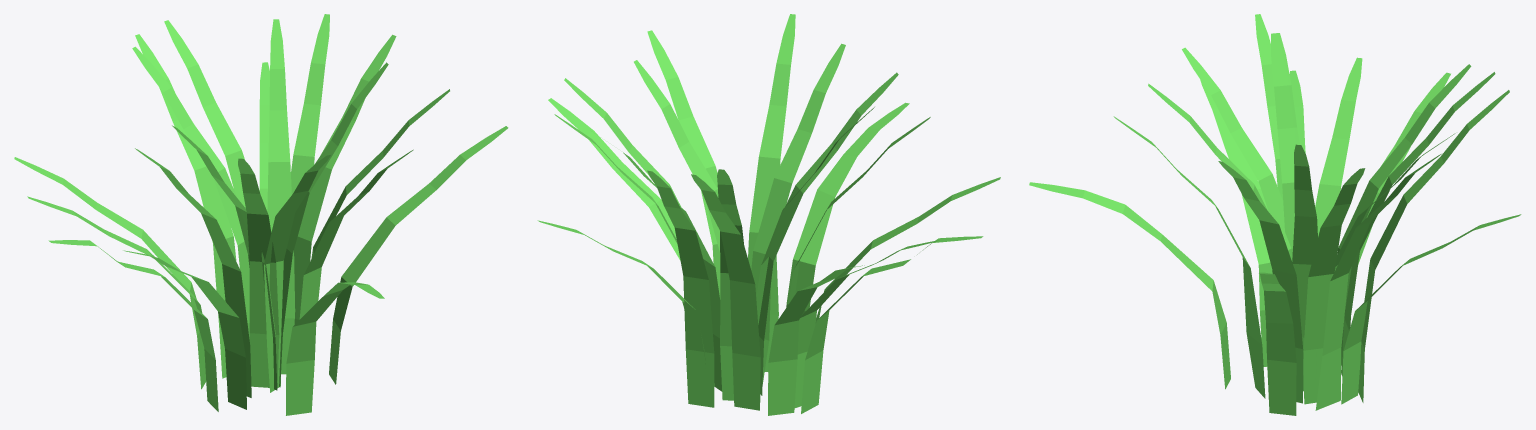
The model's file is ENV_Grass02.fbx.
3 renders of one model, left to right at view 1: azimuth 30°, elevation 25°; view 2: azimuth 150°, elevation 25°; view 3: azimuth 270°, elevation 25°, orthographic.
Parts seen in each view (by area): view 1: Plane.041; view 2: Plane.041; view 3: Plane.041.
Part boxes in pixels (box(x1,y1,x2,y2)): Plane.041: box(14, 14, 508, 415); Plane.041: box(537, 14, 1000, 415); Plane.041: box(1029, 14, 1521, 415).
Bounding box in the file's own units: 46.43 × 49.1 × 31.97.
